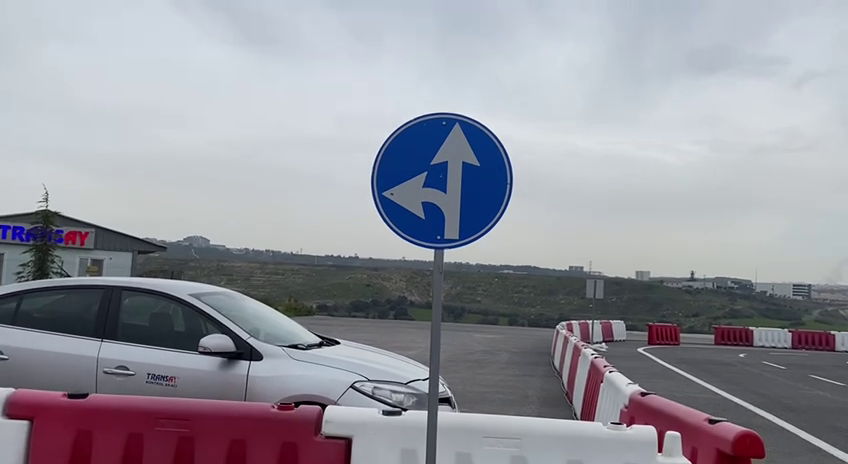forwardAndLeft: (366, 108, 518, 253)
